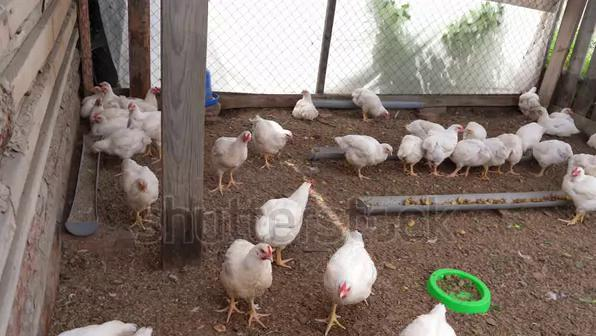Pollos: (324, 230, 380, 306), (255, 177, 316, 242), (223, 240, 275, 302), (249, 113, 291, 163), (120, 156, 157, 210), (212, 129, 251, 174), (335, 134, 389, 166), (425, 123, 462, 165), (348, 86, 389, 122), (86, 135, 148, 158), (129, 101, 164, 135), (565, 168, 596, 205), (537, 106, 576, 135), (489, 133, 515, 167), (293, 90, 321, 119), (399, 133, 424, 164), (92, 111, 127, 133), (520, 86, 539, 113), (141, 82, 160, 105), (463, 120, 486, 139), (99, 84, 118, 103)
